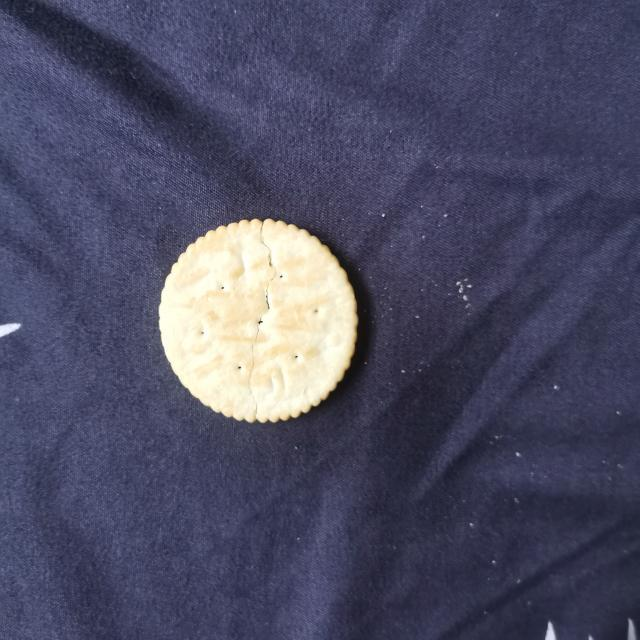Fracture: (243, 217, 285, 421)
